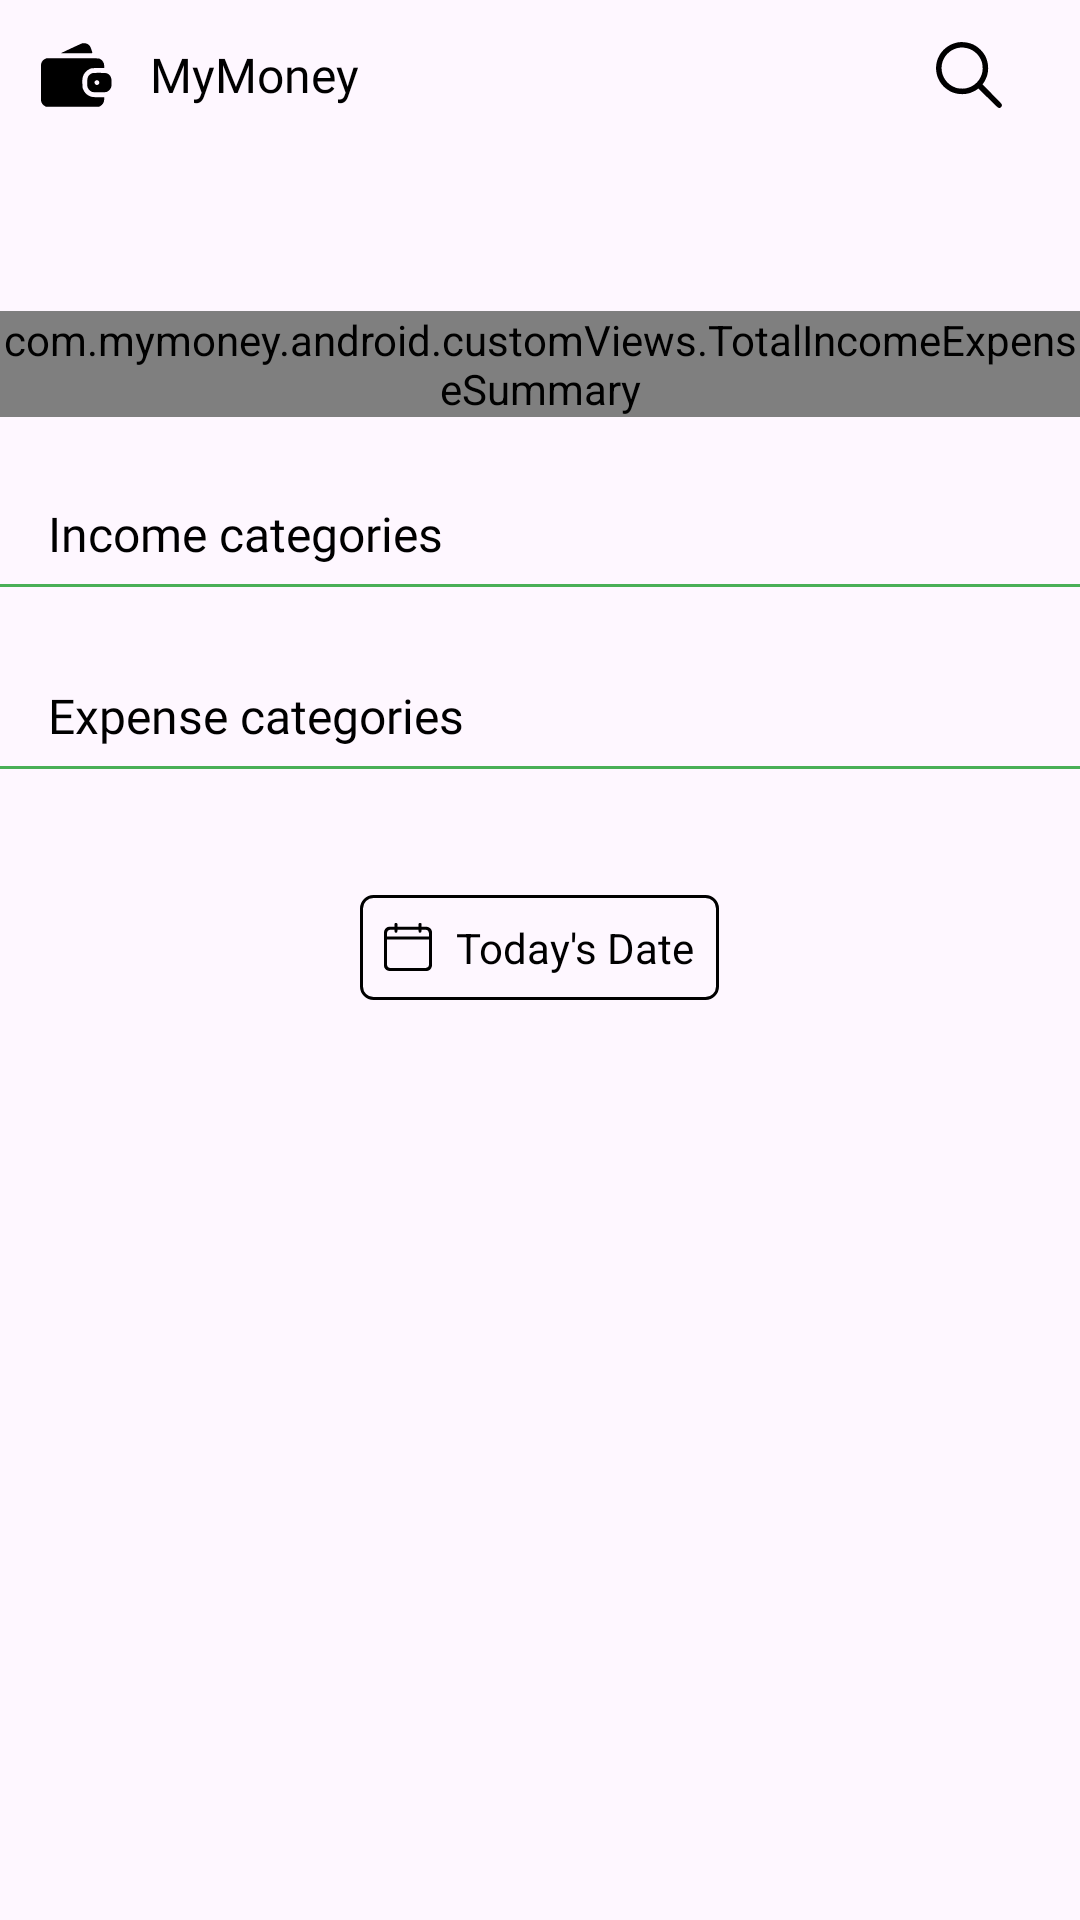

Screen size 1080×1920. Icon name, then its center in pixels as [x,y]:
calendar: [408,947]
search: [969,75]
wallet: [76,75]
